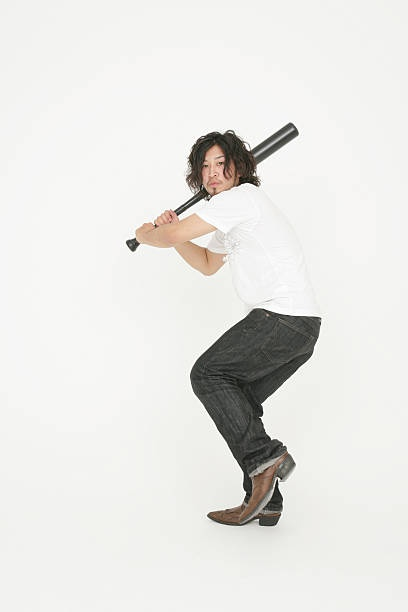bita: (247, 122, 297, 169)
